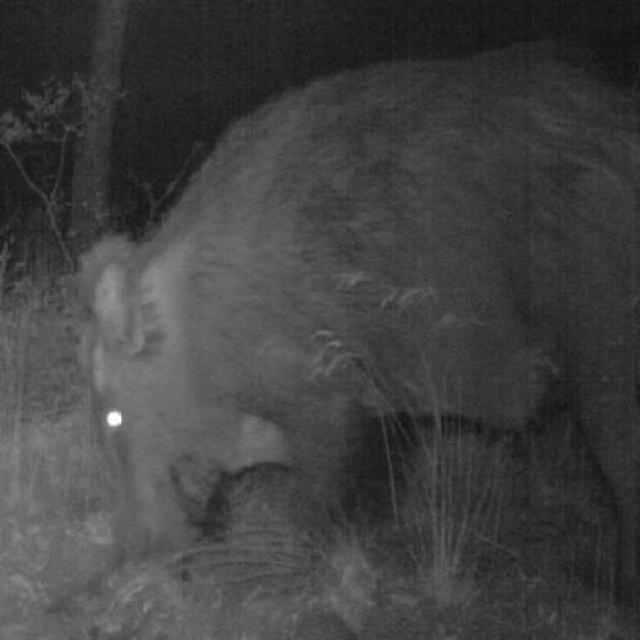Boar: (67, 35, 640, 639)
